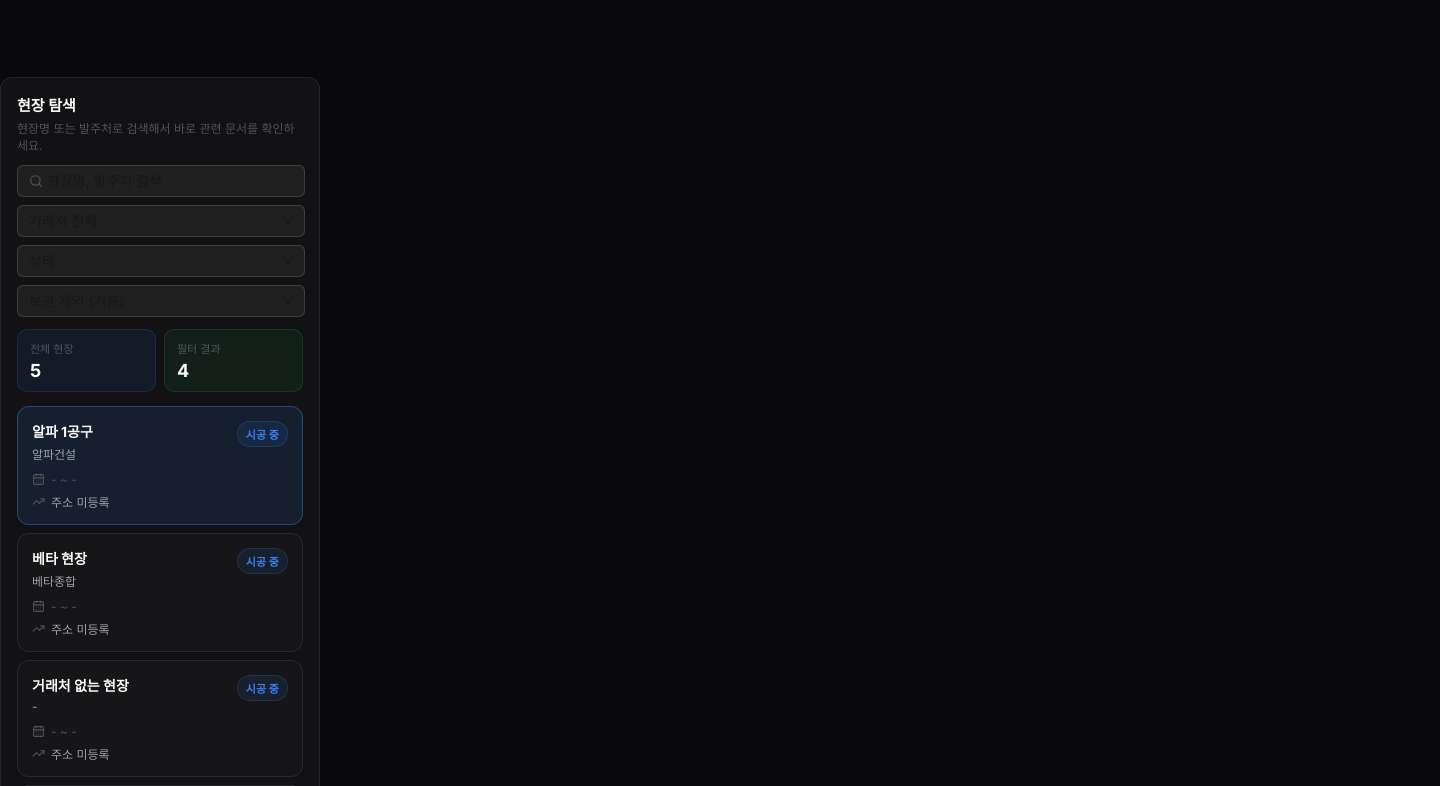
Test case: SiteListPage client filter › 거래처 선택지는 검색 가능하고 보관 거래처를 구분해 보여 준다
The width and height of the screenshot is (1440, 786).
Press the mouse on the dropdown named "거래처 필터" at (152, 221), box [29,206,275,236]
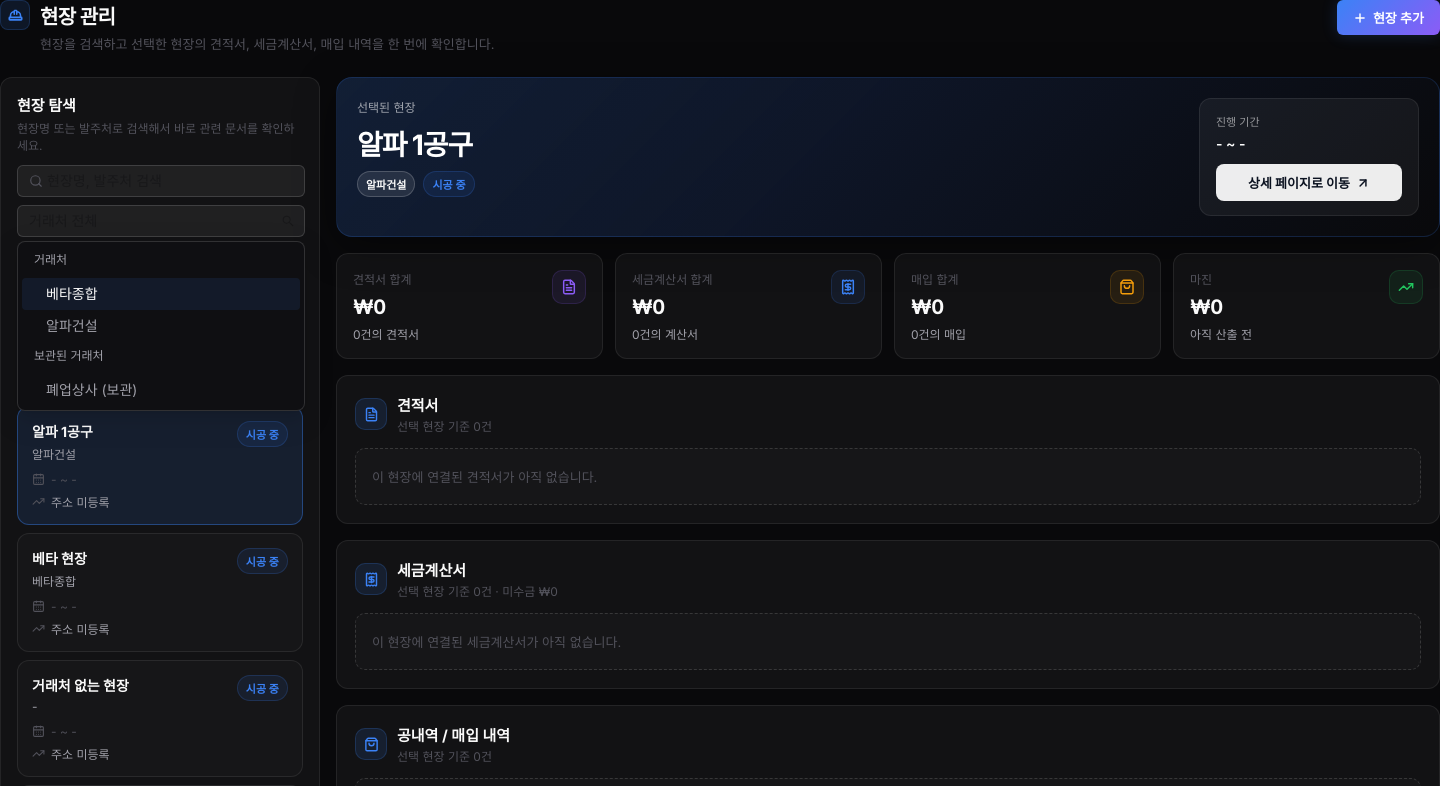
Now the text "폐업상사 (보관)" is shown, box [46,381,137,398]
Now the text "보관된 거래처" is shown, box [34,348,104,363]
Type "베타" into the dropdown named "거래처 필터".
click(152, 221); type("베타")  # box [29,206,275,236]
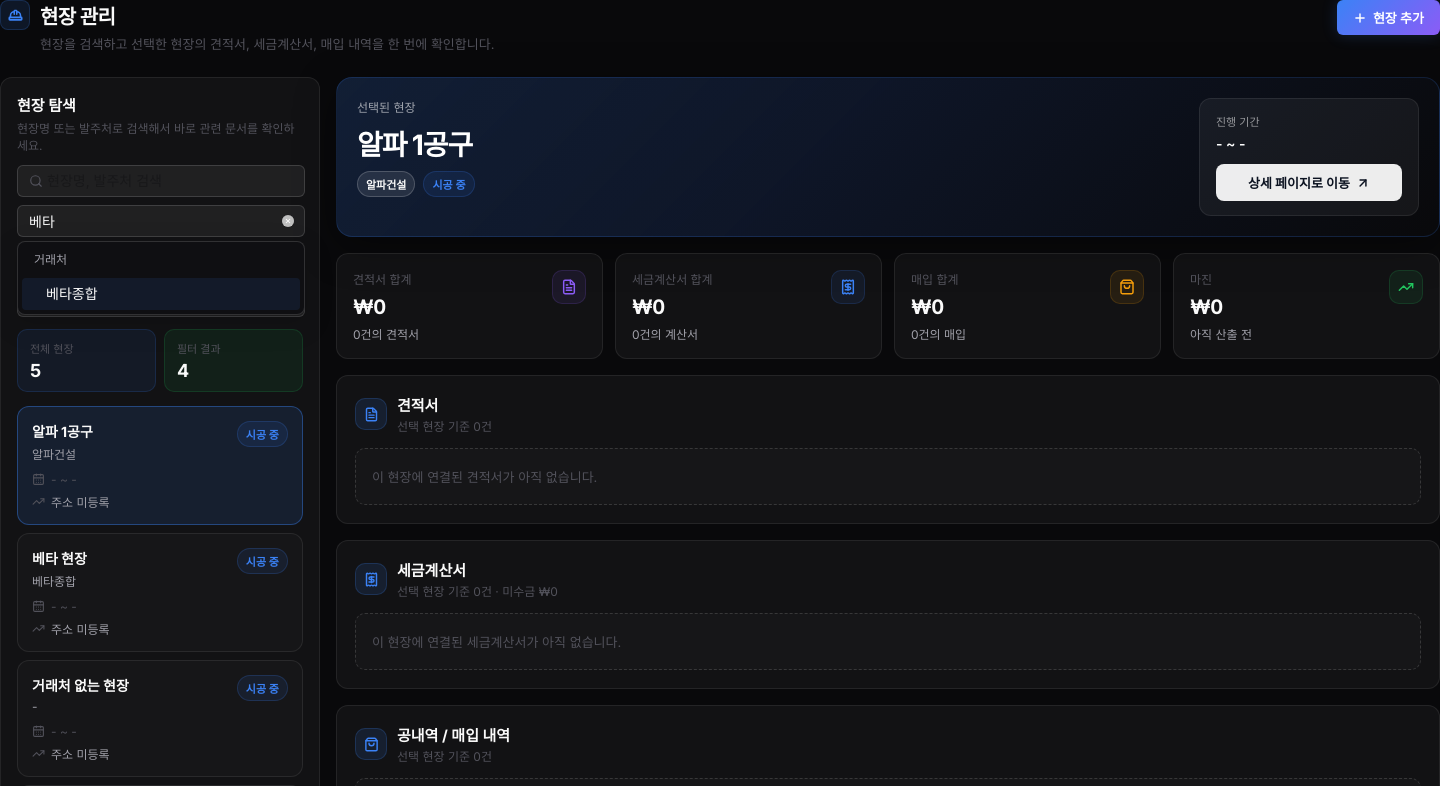
Click the element titled "베타종합".
click(161, 294)  # box [22,278,300,310]
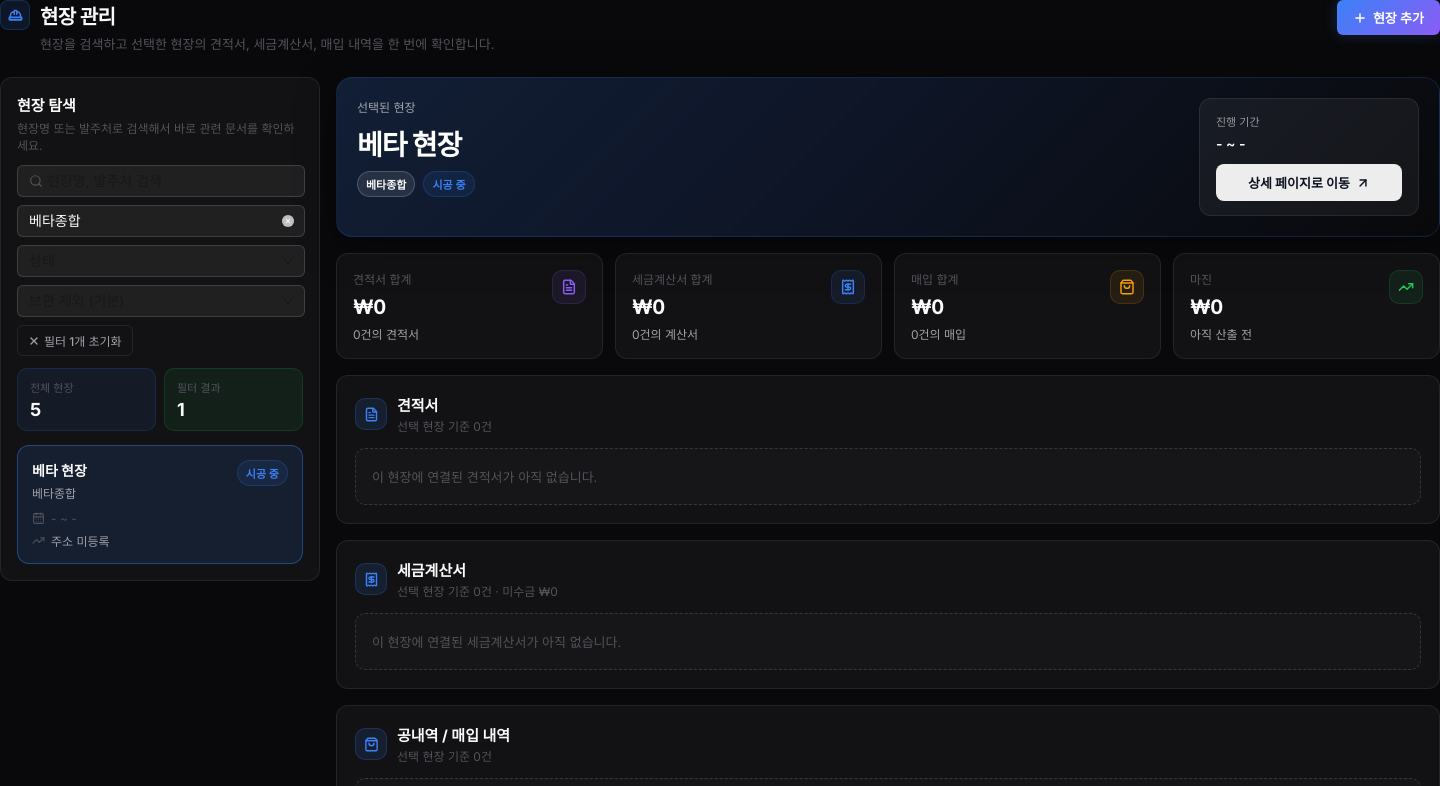
Expected: the text "베타 현장" below "전체 현장" is shown, [32,462,87,479]
Now the button "알파 1공구" is gone
